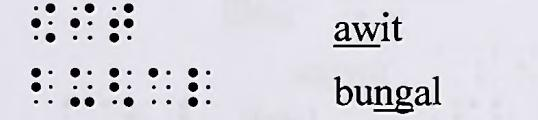letter_a: (146, 64, 175, 106)
letter_b: (29, 66, 55, 106)
letter_i: (67, 3, 97, 43)
letter_l: (186, 64, 214, 108)
letter_t: (109, 2, 135, 42)
letter_u: (69, 66, 95, 107)
one_cell_part_word_aw: (30, 1, 57, 45)
one_cell_part_word_ng: (107, 66, 134, 107)
